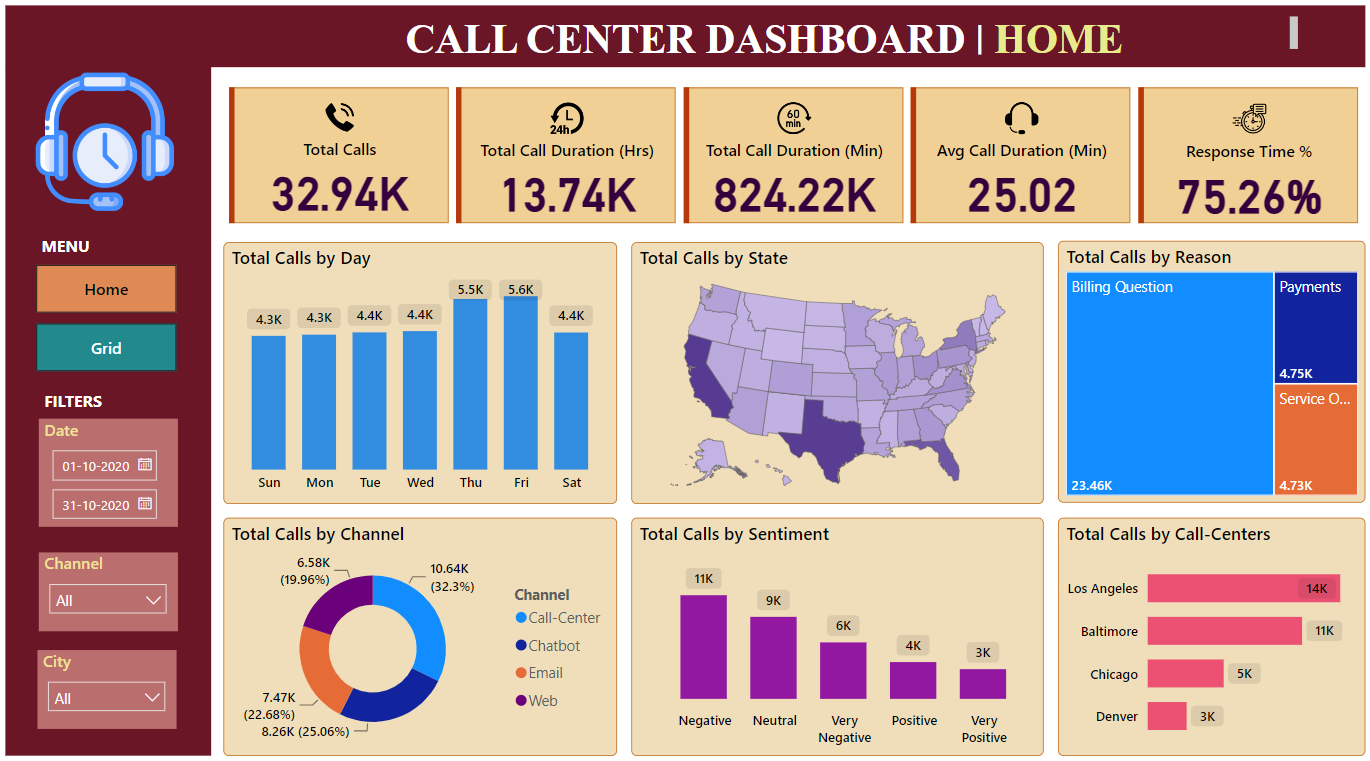

What the dashboard file says about the page in this screenshot:
{"tool":"powerbi","page":{"name":"Home","canvas":[1280,720],"ordinal":0},"visuals":[{"type":"shape","box":[12.1,12.1,1250.1,57],"z":0},{"type":"shape","box":[12.1,68.6,189.5,633.1],"z":1000},{"type":"cardVisual","fields":{"Data":["Call Center.Total Calls","Call Center.Total Call Duration (Hrs)","Call Center.Total Call Duration (Min)","Call Center.Avg Call Duration (Min)","Call Center.Response Time %"]},"box":[212.4,82,1049.8,135.8],"z":2000},{"type":"textbox","box":[375,17.5,830.7,45.7],"z":3000},{"type":"columnChart","fields":{"Category":["Date Table.Day"],"Y":["Call Center.Total Calls"]},"box":[212.4,229.9,361.6,240.6],"z":4000},{"type":"shapeMap","fields":{"Category":["Call Center.State"],"Value":["Call Center.Total Calls"]},"box":[587.4,229.9,379.1,240.6],"z":5000},{"type":"treemap","fields":{"Group":["Call Center.Reason"],"Values":["Call Center.Total Calls"]},"box":[979.9,228.5,282.3,240.6],"z":6000},{"type":"donutChart","fields":{"Category":["Call Center.Channel"],"Y":["Call Center.Total Calls"]},"box":[212.4,482.6,361.6,219.1],"z":7000},{"type":"columnChart","fields":{"Category":["Call Center.Sentiment"],"Y":["Call Center.Total Calls"]},"box":[587.4,482.6,379.1,219.1],"z":8000},{"type":"barChart","title":"Total Calls by Call-Centers","fields":{"Y":["Call Center.Total Calls"],"Category":["Call Center.Total Calls by Call-Centres"]},"box":[979.9,482.6,282.3,219.1],"z":9000},{"type":"slicer","title":"Date","fields":{"Values":["Date Table.Date"]},"box":[43,392.5,127.7,99.5],"z":10000},{"type":"slicer","title":"Channel","fields":{"Values":["Call Center.Channel"]},"box":[43,514.8,127.7,72.6],"z":11000},{"type":"slicer","title":"City","fields":{"Values":["Call Center.City"]},"box":[41.7,604.9,127.7,72.6],"z":12000},{"type":"image","box":[32.3,68.6,143.8,137.1],"z":13000},{"type":"pageNavigator","box":[40.3,251.4,129,98.1],"z":14000},{"type":"textbox","box":[40.3,217.8,76.6,32.3],"z":15000},{"type":"textbox","box":[43,360.2,76.6,32.3],"z":16000}]}

Visuals, with their boxes in screenshot pixels (x1, y1, x2, y2), scaled from the page's 1280x720 canvas onto the 1370x761 screenshot:
shape: l=13, t=13, r=1351, b=73
shape: l=13, t=73, r=216, b=742
cardVisual - Call Center.Total Calls x Call Center.Total Call Duration (Hrs): l=227, t=87, r=1351, b=230
textbox: l=401, t=18, r=1290, b=67
columnChart - Date Table.Day x Call Center.Total Calls: l=227, t=243, r=614, b=497
shapeMap - Call Center.State x Call Center.Total Calls: l=629, t=243, r=1034, b=497
treemap - Call Center.Reason x Call Center.Total Calls: l=1049, t=242, r=1351, b=496
donutChart - Call Center.Channel x Call Center.Total Calls: l=227, t=510, r=614, b=742
columnChart - Call Center.Sentiment x Call Center.Total Calls: l=629, t=510, r=1034, b=742
"Total Calls by Call-Centers" barChart: l=1049, t=510, r=1351, b=742
"Date" slicer: l=46, t=415, r=183, b=520
"Channel" slicer: l=46, t=544, r=183, b=621
"City" slicer: l=45, t=639, r=181, b=716
image: l=35, t=73, r=188, b=217
pageNavigator: l=43, t=266, r=181, b=369
textbox: l=43, t=230, r=125, b=264
textbox: l=46, t=381, r=128, b=415
